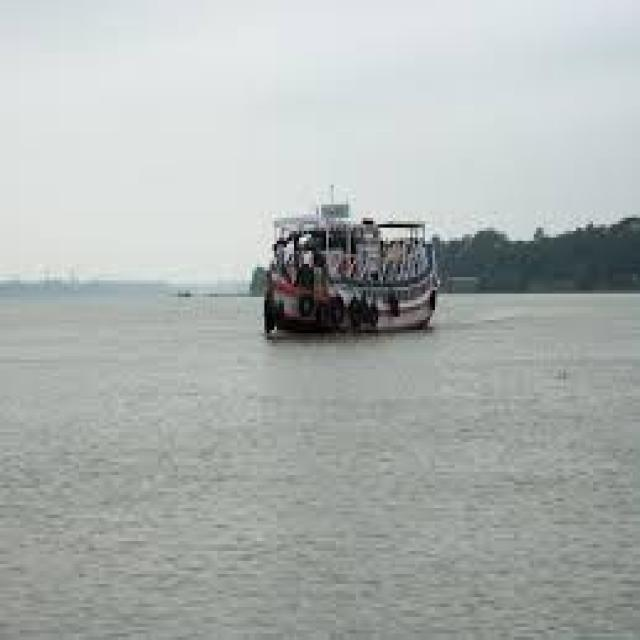fishing boat: (264, 186, 442, 335)
